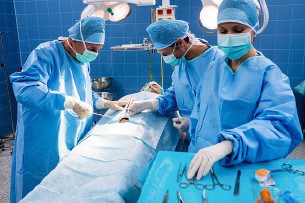face_mask: (216, 20, 251, 58), (158, 39, 183, 67), (75, 36, 101, 62)
